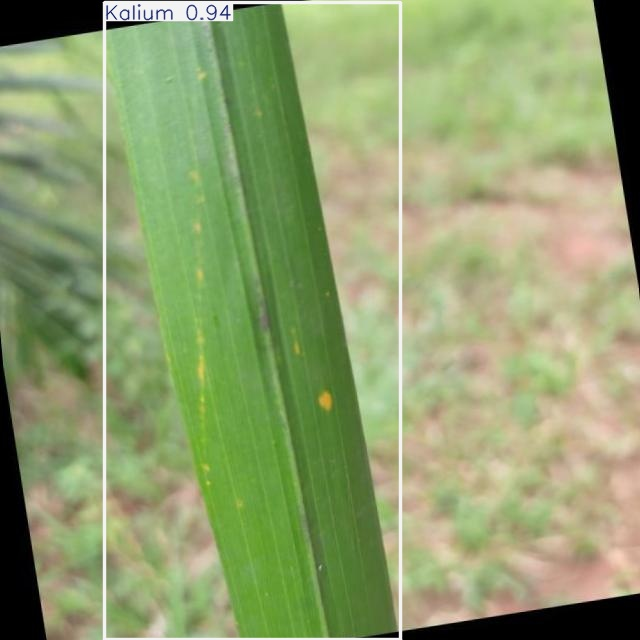Kalium: (105, 2, 400, 639)
